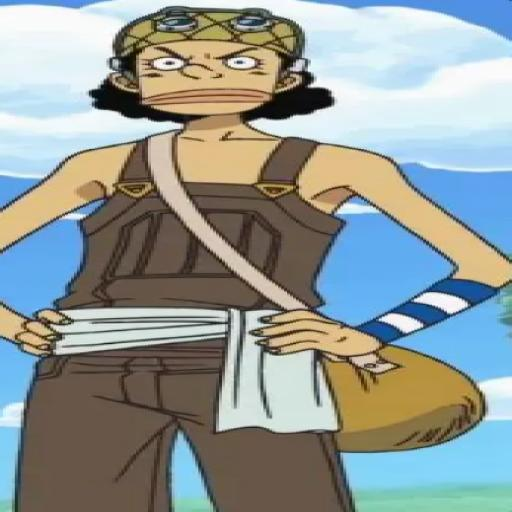Usopp: (5, 4, 511, 512)
